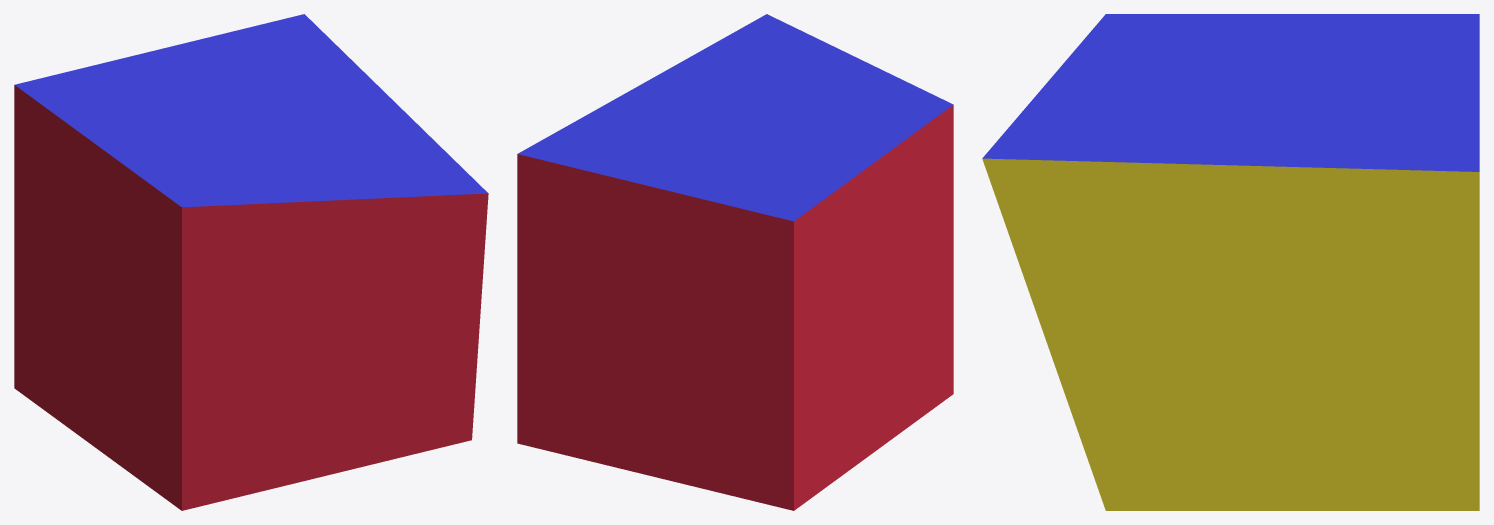
The picture shows the model from 3 angles, left to right: view 1: azimuth 30°, elevation 25°; view 2: azimuth 150°, elevation 25°; view 3: azimuth 270°, elevation 25°; orthographic projection. The views are drawn at different scales.
Parts seen in each view (by area): view 1: Cube.001; view 2: Cube.001; view 3: Cube.001.
Boxes of the visible parts, x1,y1,x2,y2 form: Cube.001: (14,14,488,510); Cube.001: (517,14,953,510); Cube.001: (982,14,1479,510).
Size of the model in its own units: 2 by 2 by 2.66.
